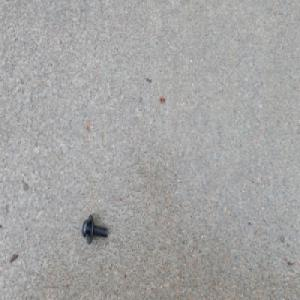BoltWasher: (81, 213, 108, 244)
